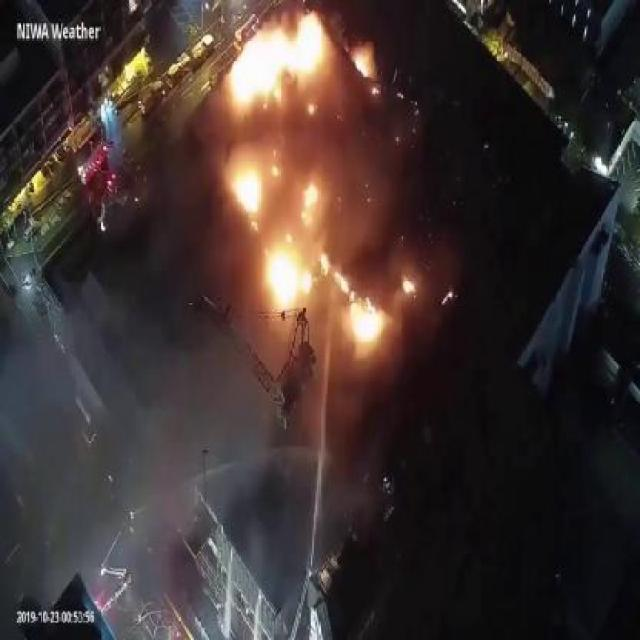Fire: (223, 6, 330, 115), (266, 240, 312, 308), (350, 292, 388, 346), (228, 157, 264, 212), (297, 184, 320, 224), (351, 47, 377, 76), (402, 272, 416, 296), (319, 255, 331, 272), (272, 162, 280, 176)
